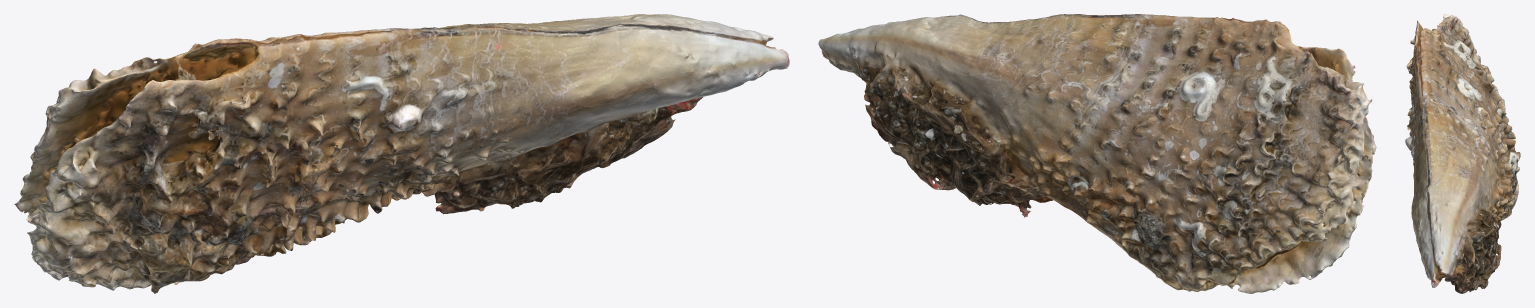
Rendered from MZUR3D-042.glb.
The picture shows the model from 3 angles, left to right: view 1: azimuth 30°, elevation 25°; view 2: azimuth 150°, elevation 25°; view 3: azimuth 270°, elevation 25°; orthographic projection. The views are drawn at different scales.
Visible parts, largest first — view 1: MZUR3D-042; view 2: MZUR3D-042; view 3: MZUR3D-042.
Boxes of the visible parts, x1,y1,x2,y2 form: MZUR3D-042: [14, 14, 789, 293]; MZUR3D-042: [818, 14, 1376, 293]; MZUR3D-042: [1405, 14, 1520, 293].
Size of the model in its own units: 11.05 by 4.42 by 2.69.
1 material, 1 textured.
